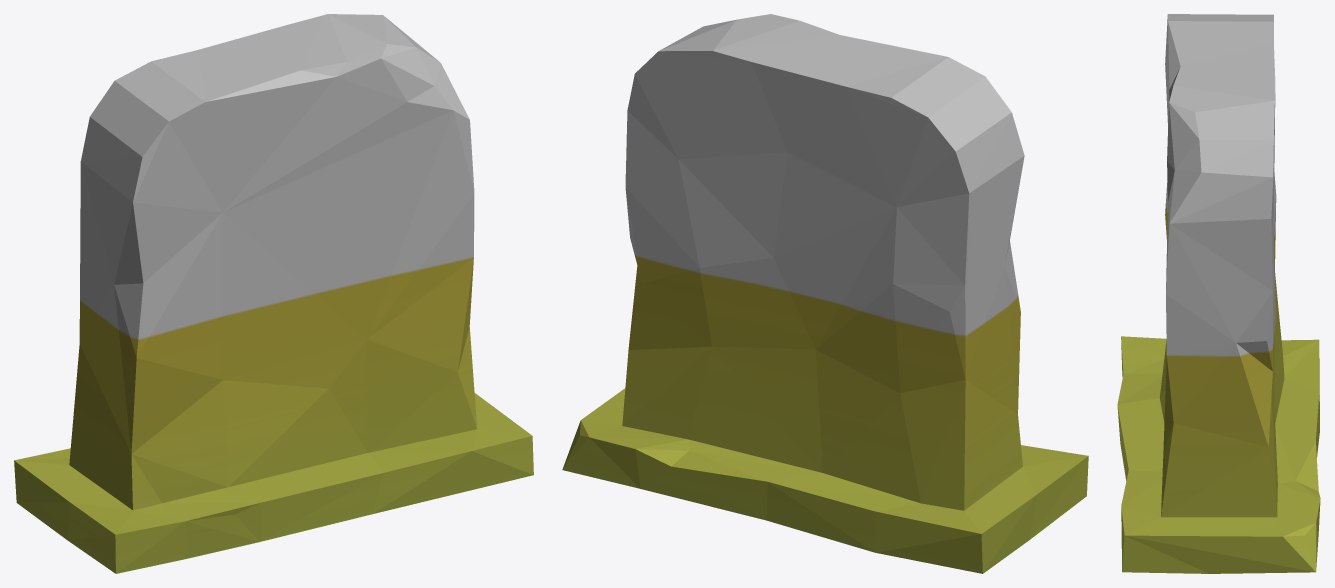
Rendered from Gravestone_01.fbx.
3 views of the same model, side by side, from view 1: azimuth 30°, elevation 25°; view 2: azimuth 150°, elevation 25°; view 3: azimuth 270°, elevation 25° (orthographic). The views are drawn at different scales.
Visible parts, largest first — view 1: Gravestone_01; view 2: Gravestone_01; view 3: Gravestone_01.
Part boxes in pixels (bbox=[...]): Gravestone_01: bbox=[14, 14, 533, 573]; Gravestone_01: bbox=[562, 14, 1088, 573]; Gravestone_01: bbox=[1117, 14, 1320, 573].
Bounding box in the file's own units: 2.11 × 2.1 × 0.9257.
